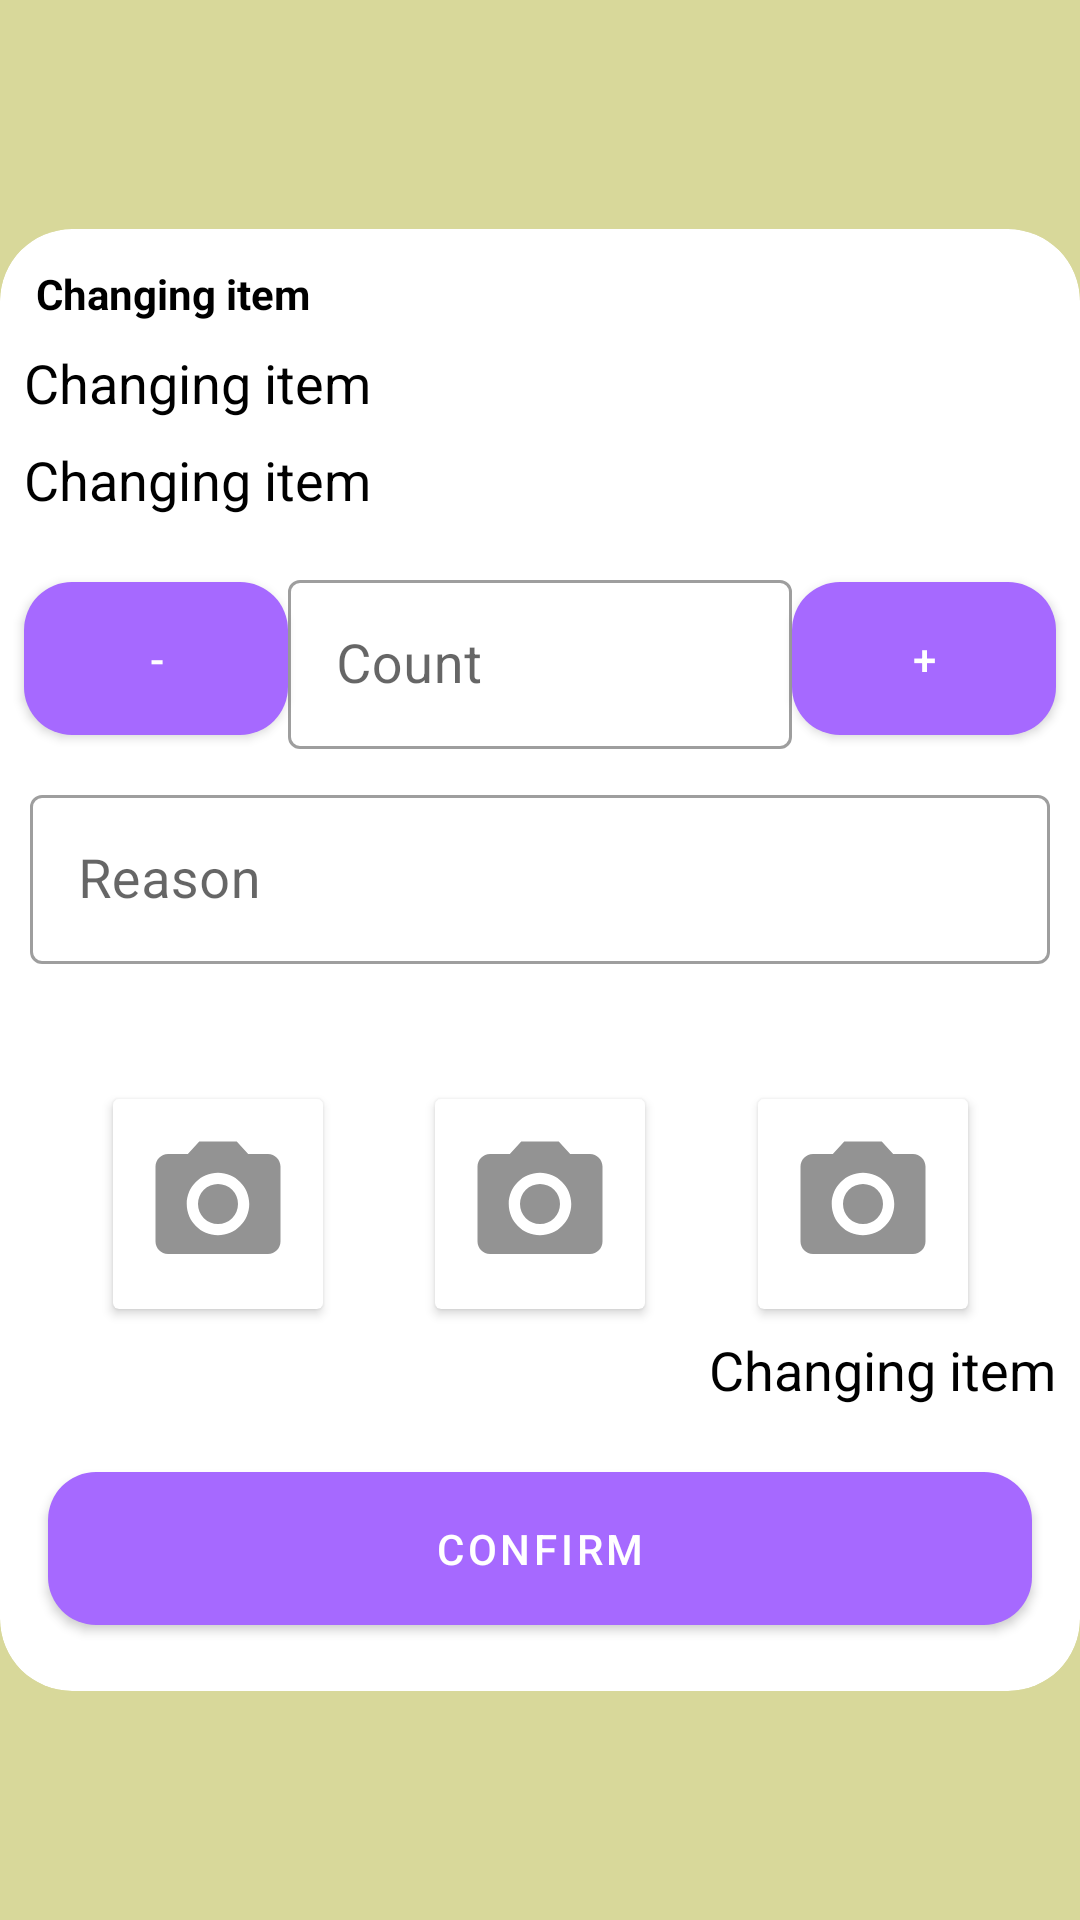

Icon bounding boxes for this 1080 x 1920 phone screenshot, format (x1, y1, x2, y2):
camera: (155, 1141, 281, 1254), (477, 1141, 603, 1254), (800, 1141, 926, 1254)
